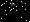person: (10, 5, 19, 16), (20, 4, 27, 12)
